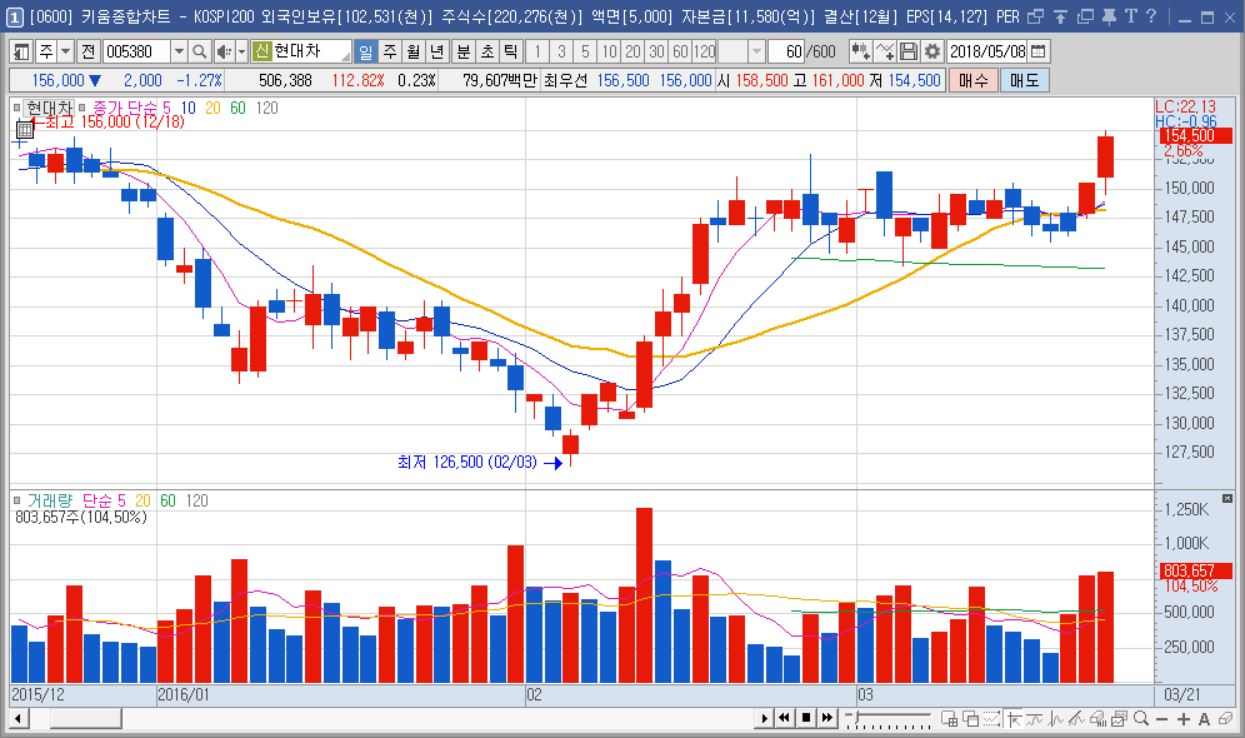up: (563, 131, 1116, 682)
